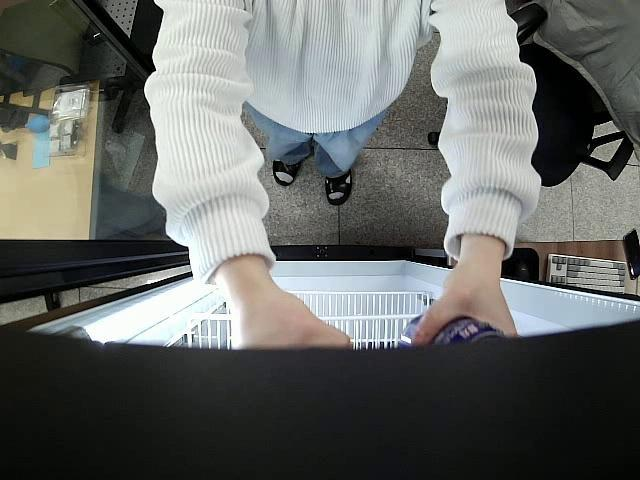14_welchsGrape: (402, 310, 506, 346)
